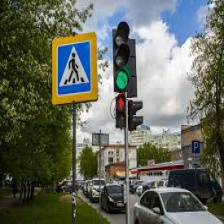semaforo: (112, 21, 133, 95)
